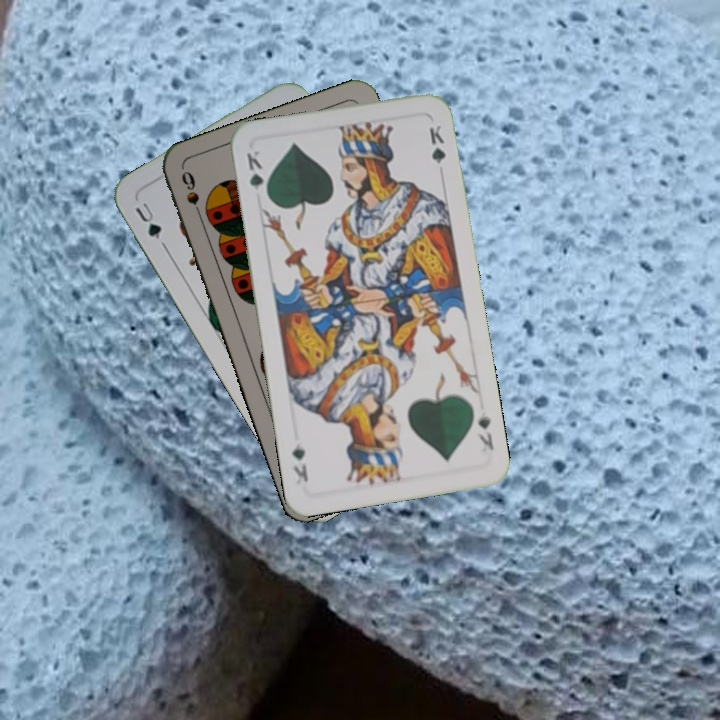GK: (242, 146, 271, 202), (472, 411, 496, 453)
GU: (131, 198, 169, 250)
S9: (177, 166, 206, 224)
